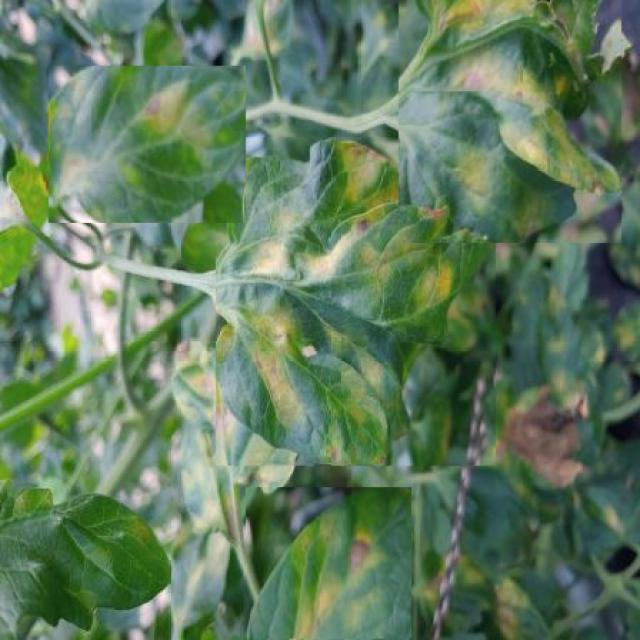Leaf Mold: (215, 138, 496, 466), (398, 1, 622, 242), (49, 66, 245, 223), (247, 488, 412, 639)
